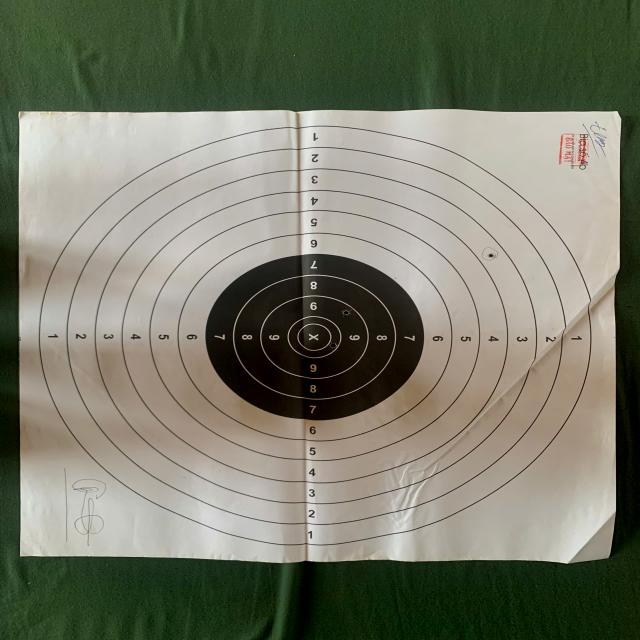bullet: (329, 340, 336, 348), (489, 252, 495, 260), (344, 308, 348, 316)
target: (20, 108, 620, 564)
